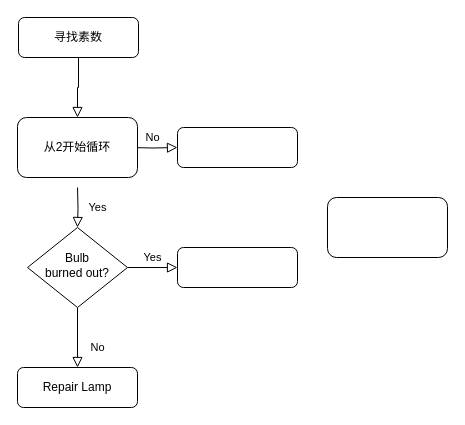
Some shapes in this 465 by 425 pixel diagram are drawn without their labels. The shapes that lost their labels are listed below. From the top down, each one's centre as x and y in pixels, then its label:
At (x=237, y=147): "插入式灯".
At (x=237, y=267): "Replace Bulb".
